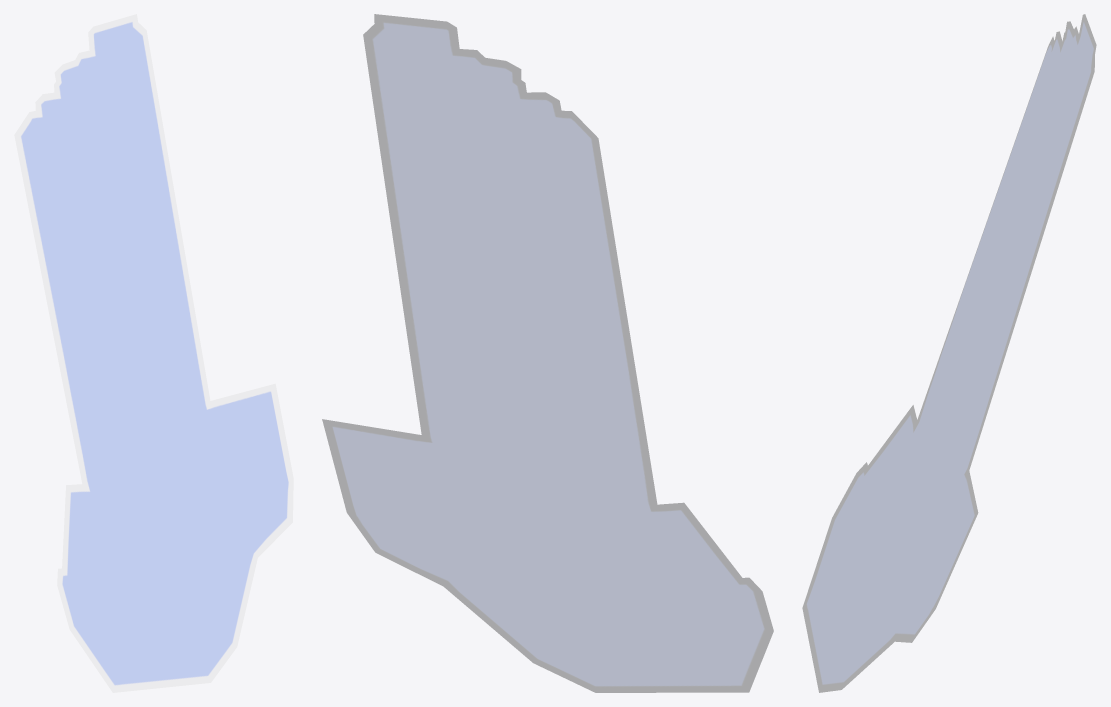
File: pano_01_highLighters_01.glb
3 views of the same model, side by side, from view 1: azimuth 30°, elevation 25°; view 2: azimuth 150°, elevation 25°; view 3: azimuth 270°, elevation 25° (orthographic). The views are drawn at different scales.
Parts seen in each view (by area): view 1: pano_01_plane_01; view 2: pano_01_plane_01; view 3: pano_01_plane_01.
Boxes of the visible parts, left/top/right/bottom form: pano_01_plane_01: left=14, top=14, right=293, bottom=692; pano_01_plane_01: left=322, top=14, right=773, bottom=692; pano_01_plane_01: left=802, top=14, right=1096, bottom=692.
Bounding box in the file's own units: 83.7 × 170 × 67.06.
Materials: 1 (1 with a texture image).
